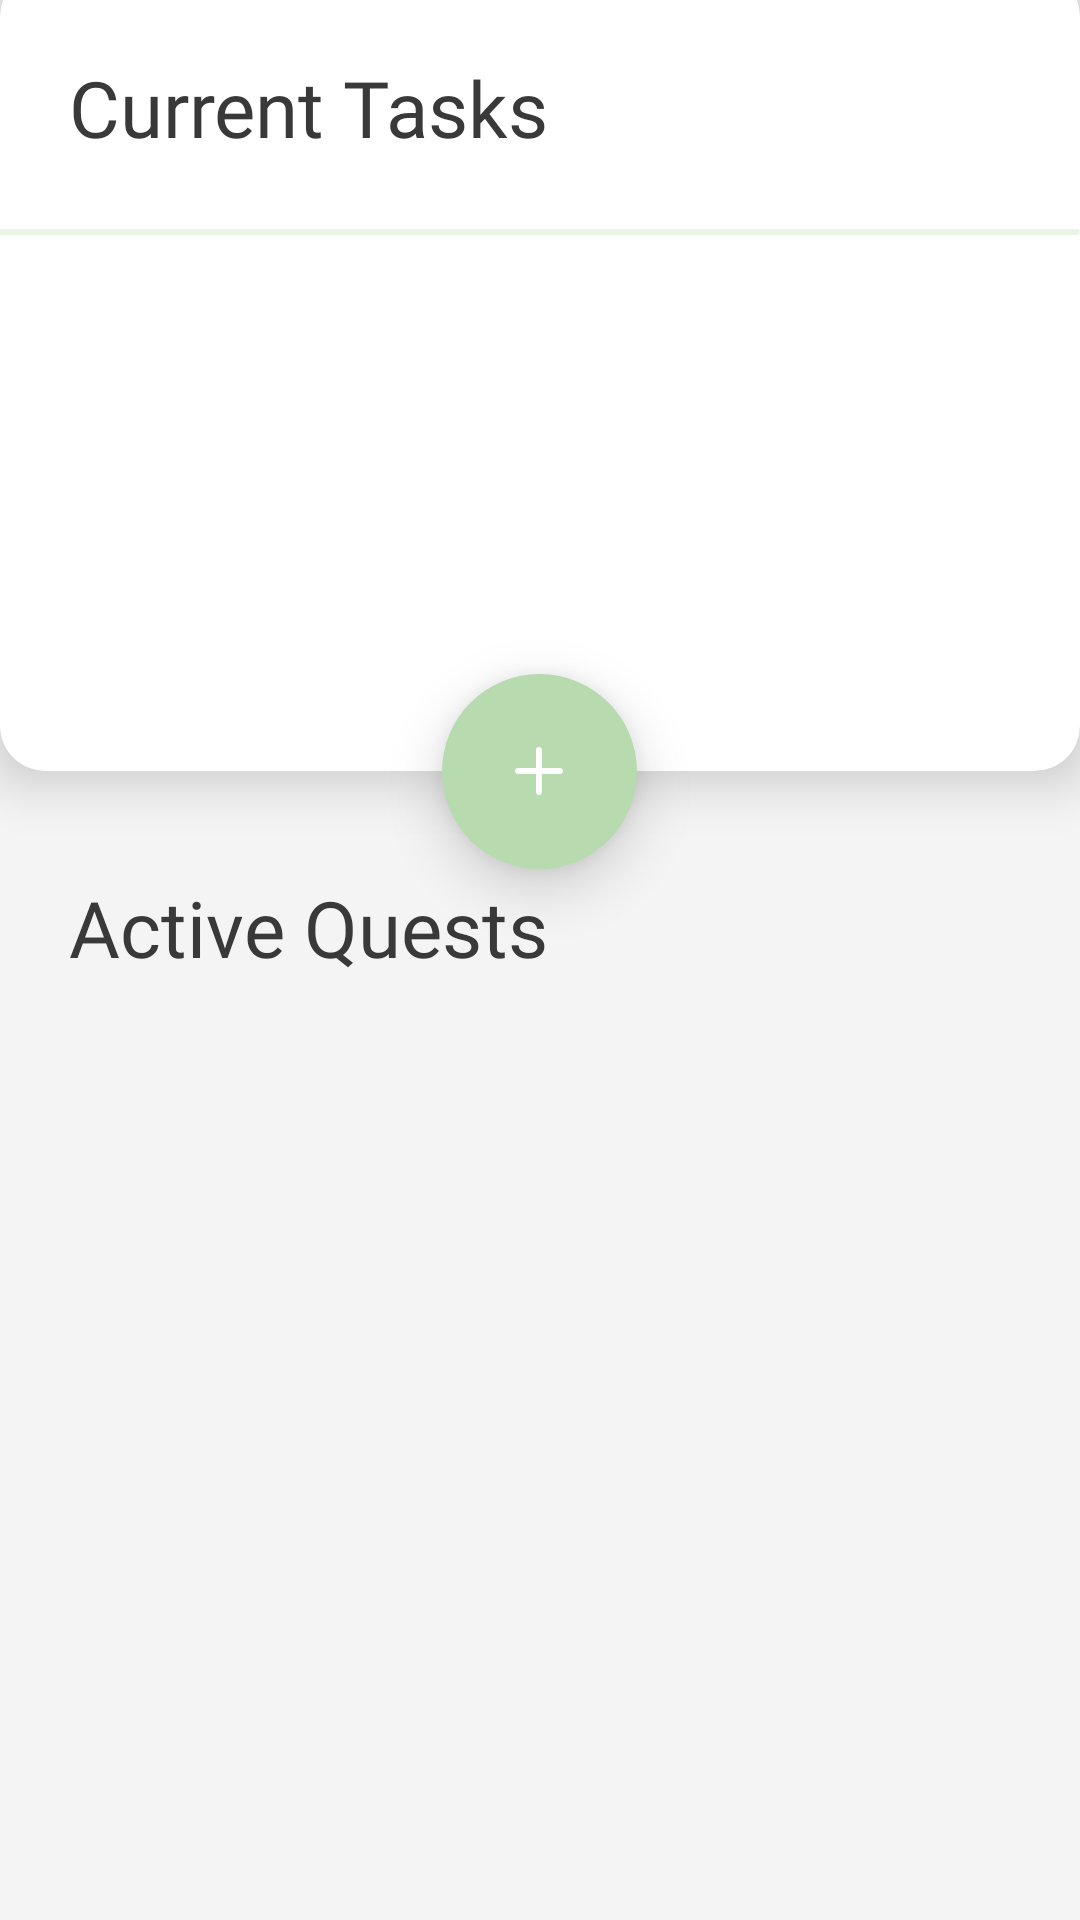

Screen size 1080px x 1920px. Icon name, then its center in pixels as point (x, y):
plus: point (539, 771)
